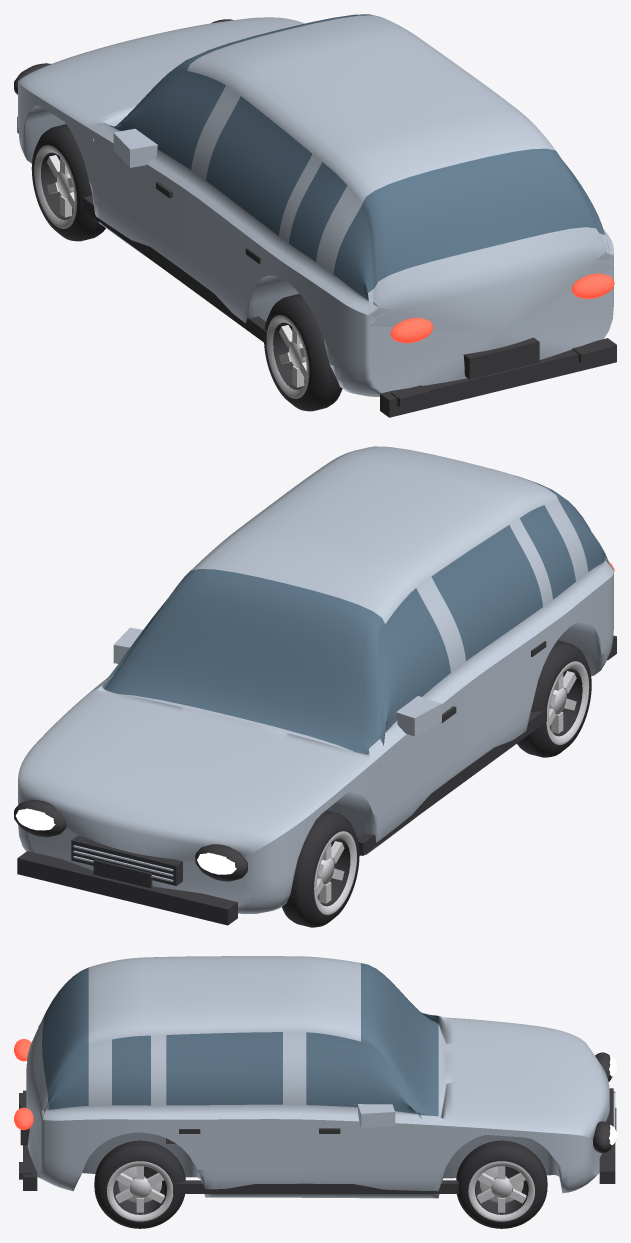
Rendered from hatch.glb.
3 views of the same model, one above another, from view 1: azimuth 30°, elevation 25°; view 2: azimuth 150°, elevation 25°; view 3: azimuth 270°, elevation 25° (orthographic). The views are drawn at different scales.
Parts seen in each view (by area): view 1: Body, Glass, Wheel_RL, Wheel_FL, BrakeLights; view 2: Body, Glass, Wheel_FL, Wheel_RL, Headlights; view 3: Body, Glass, Wheel_FR, Wheel_RR, BrakeLights.
Part boxes in pixels (bbox=[...]): Body: bbox=[14, 15, 616, 417]; Glass: bbox=[110, 14, 604, 300]; Wheel_RL: bbox=[264, 294, 342, 411]; Wheel_FL: bbox=[31, 124, 105, 241]; BrakeLights: bbox=[390, 273, 614, 343]; Body: bbox=[14, 446, 616, 925]; Glass: bbox=[102, 470, 605, 767]; Wheel_FL: bbox=[282, 810, 359, 927]; Wheel_RL: bbox=[517, 640, 591, 757]; Headlights: bbox=[16, 808, 236, 874]; Body: bbox=[19, 956, 616, 1198]; Glass: bbox=[42, 963, 438, 1118]; Wheel_FR: bbox=[456, 1140, 547, 1228]; Wheel_RR: bbox=[94, 1140, 185, 1228]; BrakeLights: bbox=[14, 1039, 33, 1130].
Bounding box in the file's own units: 1.96 × 1.52 × 4.22.
